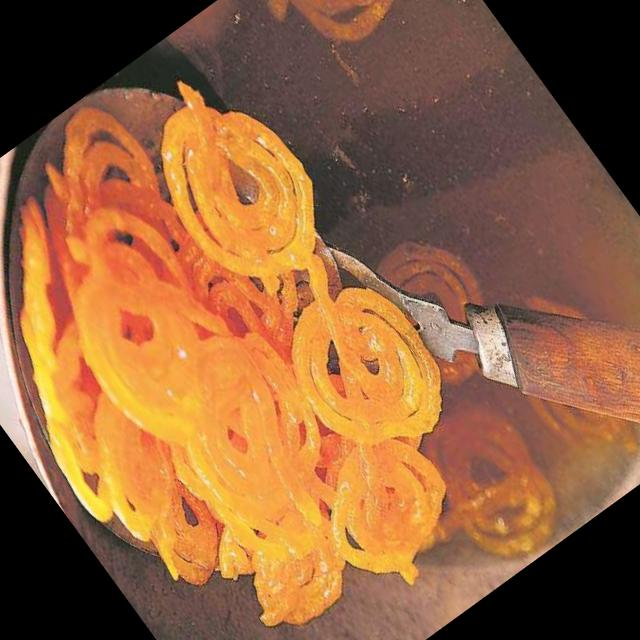jalebi: (0, 59, 540, 640), (412, 393, 584, 580), (249, 0, 418, 51)
